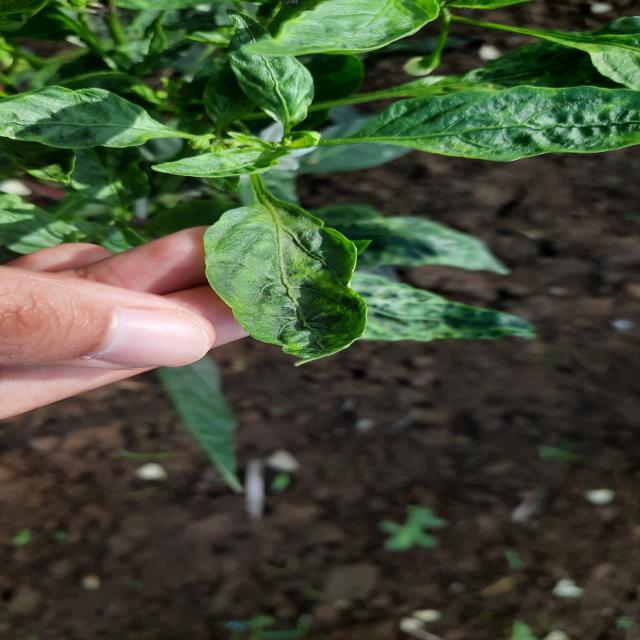thrips: (165, 192, 384, 378), (324, 77, 640, 179)
